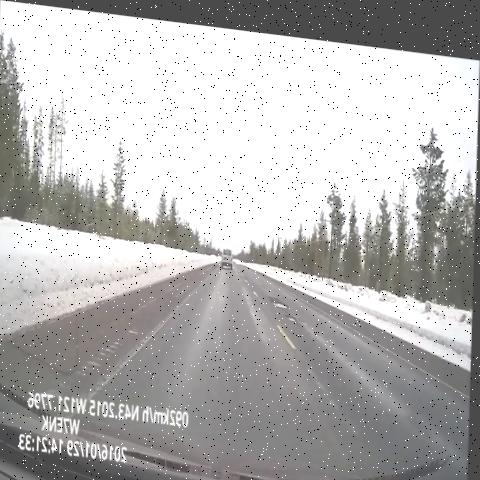pothole: (265, 285, 296, 306), (285, 300, 304, 318)
